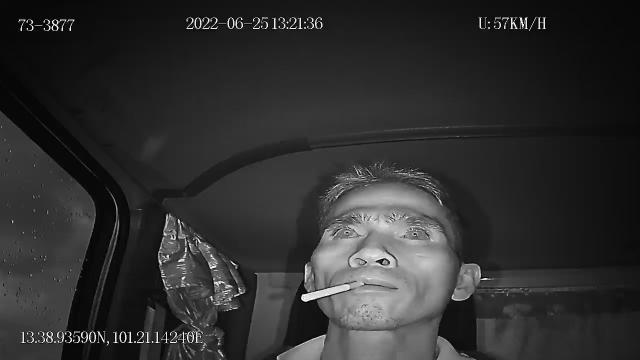SafeDriving: (392, 220, 435, 244), (324, 220, 364, 243)
Smoking: (301, 282, 364, 302)
